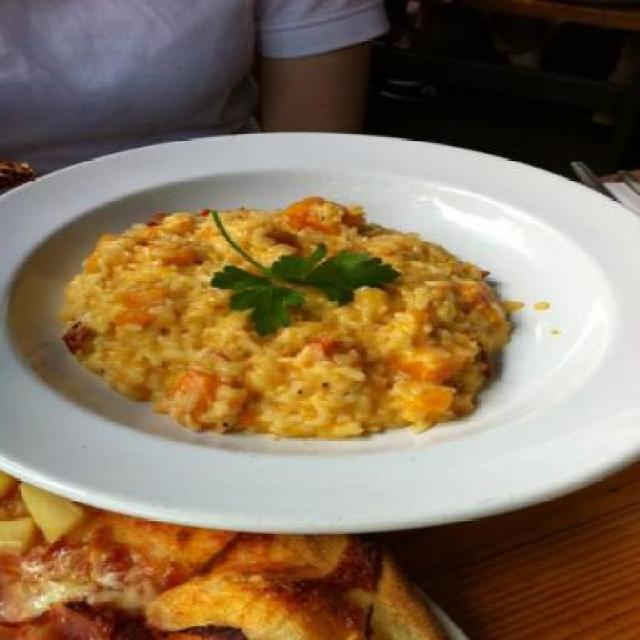Risotto: (64, 188, 526, 428)
